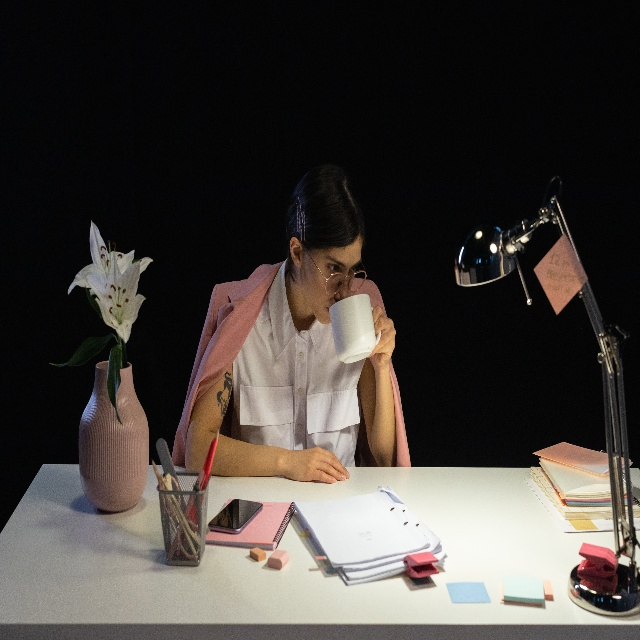Gafas: (158, 468, 202, 562), (304, 246, 367, 296)
Sin_guantes: (283, 445, 350, 483), (366, 305, 397, 368)
